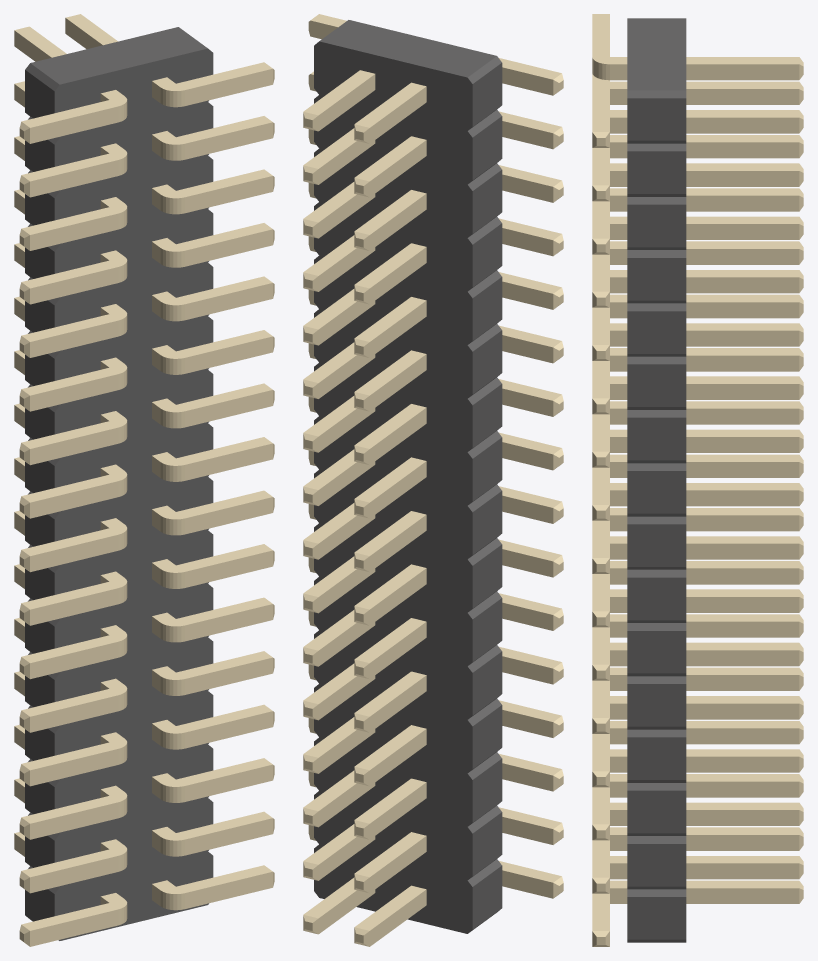
The model's file is PinHeader_2x16_P1.00mm_Vertical_SMD.glb.
3 views of the same model, side by side, from view 1: azimuth 30°, elevation 25°; view 2: azimuth 150°, elevation 25°; view 3: azimuth 270°, elevation 25° (orthographic).
Parts seen in each view (by area): view 1: Shape_IndexedFaceSet.003, Shape_IndexedFaceSet.001, Shape_IndexedFaceSet.474, Shape_IndexedFaceSet.409, Shape_IndexedFaceSet.494, Shape_IndexedFaceSet.379, Shape_IndexedFaceSet.384, Shape_IndexedFaceSet.389, Shape_IndexedFaceSet.429, Shape_IndexedFaceSet.454, Shape_IndexedFaceSet.459, Shape_IndexedFaceSet.479 (+72 smaller); view 2: Shape_IndexedFaceSet.004, Shape_IndexedFaceSet.001, Shape_IndexedFaceSet.031, Shape_IndexedFaceSet.085, Shape_IndexedFaceSet.097, Shape_IndexedFaceSet.043, Shape_IndexedFaceSet.049, Shape_IndexedFaceSet.055, Shape_IndexedFaceSet.061, Shape_IndexedFaceSet.067, Shape_IndexedFaceSet.073, Shape_IndexedFaceSet.079 (+86 smaller); view 3: Shape_IndexedFaceSet.001, Shape_IndexedFaceSet.016, Shape_IndexedFaceSet.040, Shape_IndexedFaceSet.058, Shape_IndexedFaceSet.082, Shape_IndexedFaceSet.002, Shape_IndexedFaceSet.010, Shape_IndexedFaceSet.022, Shape_IndexedFaceSet.028, Shape_IndexedFaceSet.034, Shape_IndexedFaceSet.046, Shape_IndexedFaceSet.052 (+102 smaller).
Boxes of the visible parts, x1,y1,x2,y2 form: Shape_IndexedFaceSet.003: (54, 48, 213, 940); Shape_IndexedFaceSet.001: (30, 27, 207, 84); Shape_IndexedFaceSet.474: (30, 427, 118, 465); Shape_IndexedFaceSet.409: (30, 588, 118, 625); Shape_IndexedFaceSet.494: (30, 160, 118, 197); Shape_IndexedFaceSet.379: (30, 802, 118, 839); Shape_IndexedFaceSet.384: (30, 749, 118, 786); Shape_IndexedFaceSet.389: (30, 909, 118, 946); Shape_IndexedFaceSet.429: (30, 695, 118, 732); Shape_IndexedFaceSet.454: (30, 374, 118, 411); Shape_IndexedFaceSet.459: (30, 481, 118, 518); Shape_IndexedFaceSet.479: (30, 106, 118, 143); Shape_IndexedFaceSet.004: (314, 41, 472, 933); Shape_IndexedFaceSet.001: (319, 20, 496, 77); Shape_IndexedFaceSet.031: (472, 277, 502, 340); Shape_IndexedFaceSet.085: (472, 758, 502, 822); Shape_IndexedFaceSet.097: (472, 865, 502, 929); Shape_IndexedFaceSet.043: (472, 384, 502, 447); Shape_IndexedFaceSet.049: (472, 437, 502, 501); Shape_IndexedFaceSet.055: (472, 491, 502, 554); Shape_IndexedFaceSet.061: (472, 544, 502, 608); Shape_IndexedFaceSet.067: (472, 598, 502, 661); Shape_IndexedFaceSet.073: (472, 651, 502, 715); Shape_IndexedFaceSet.079: (472, 705, 502, 768); Shape_IndexedFaceSet.001: (627, 18, 686, 90); Shape_IndexedFaceSet.016: (627, 204, 686, 247); Shape_IndexedFaceSet.040: (627, 417, 686, 460); Shape_IndexedFaceSet.058: (627, 577, 686, 620); Shape_IndexedFaceSet.082: (627, 790, 686, 833); Shape_IndexedFaceSet.002: (627, 98, 686, 140); Shape_IndexedFaceSet.010: (627, 151, 686, 193); Shape_IndexedFaceSet.022: (627, 258, 686, 300); Shape_IndexedFaceSet.028: (627, 311, 686, 353); Shape_IndexedFaceSet.034: (627, 364, 686, 406); Shape_IndexedFaceSet.046: (627, 471, 686, 513); Shape_IndexedFaceSet.052: (627, 524, 686, 566).
Size of the model in its own units: 1.93 by 6.3 by 1.42.
